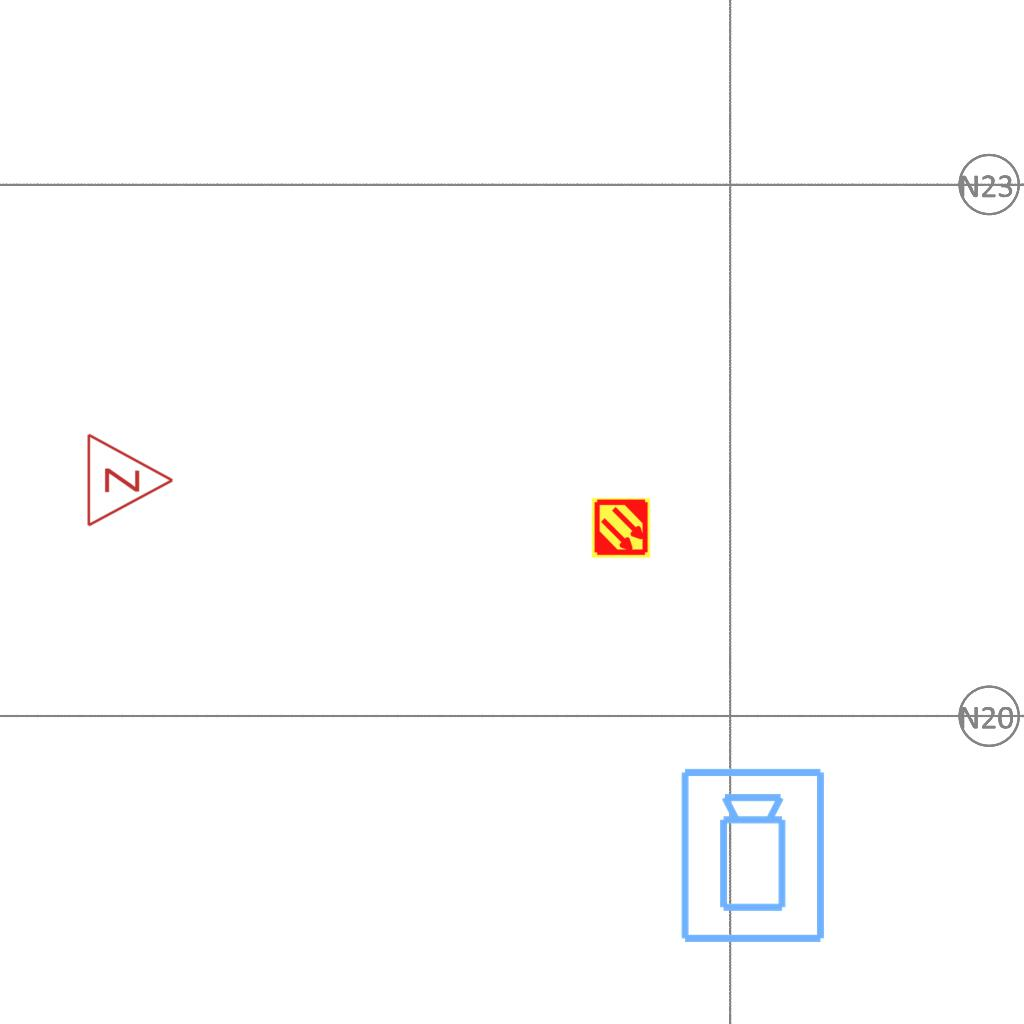ASR_Ansaugrauchmelder: (590, 497, 652, 559)
KFO_Kamera_mit_Festobjektiv: (677, 765, 831, 947)
Zimmersignalleuchte: (80, 430, 180, 528)
